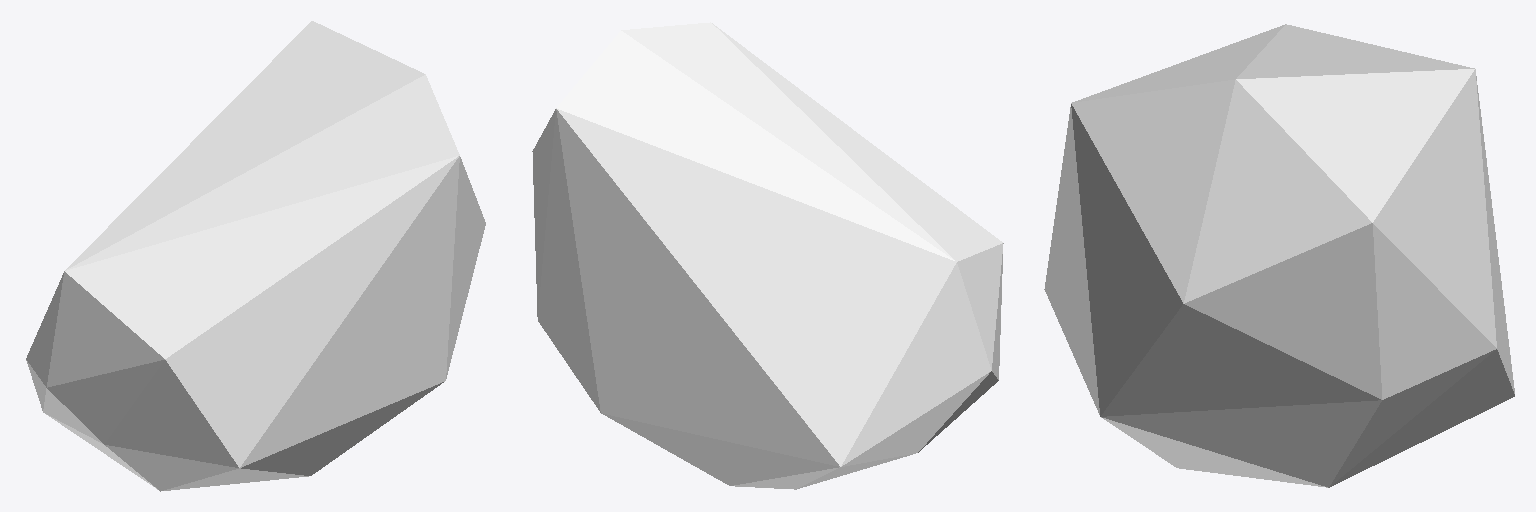
robot.urdf — robot_lleg_rom:
<robot name="robot_lleg_rom">
  <link name="base_link">
    <visual>
      <origin xyz="0 0 0" rpy="0 0 0" />
      <geometry>
        <mesh filename="package://hpp-rbprm-corba/meshes/robot_test/robot_lleg_rom.stl"/>
      </geometry>
      <material name="white">
        <color rgba="1 1 1 1"/>
      </material>
    </visual>
    <collision>
      <origin xyz="0 0 0" rpy="0 0 0" />
      <geometry>
        <mesh filename="package://hpp-rbprm-corba/meshes/robot_test/robot_lleg_rom.stl"/>
      </geometry>
    </collision>
  </link>
</robot>

--- What the picture shows (computed from the rendered views, not written in the file) ---
The picture shows the robot from 3 angles, left to right: view 1: azimuth 30°, elevation 25°; view 2: azimuth 150°, elevation 25°; view 3: azimuth 270°, elevation 25°; orthographic projection.
Robot: robot_lleg_rom — 1 links, 0 joints (none); root link base_link; default pose: every joint at zero.
Visible links, largest first — view 1: base_link; view 2: base_link; view 3: base_link.
Boxes of the visible links, x1,y1,x2,y2 form: base_link: [26, 21, 485, 491]; base_link: [532, 22, 1003, 489]; base_link: [1044, 24, 1514, 487].
Bounding box of the posed robot: 1.18 × 0.8642 × 1 m (x, y, z).
1 mesh visuals loaded from 1 distinct referenced files (1 binary STL).